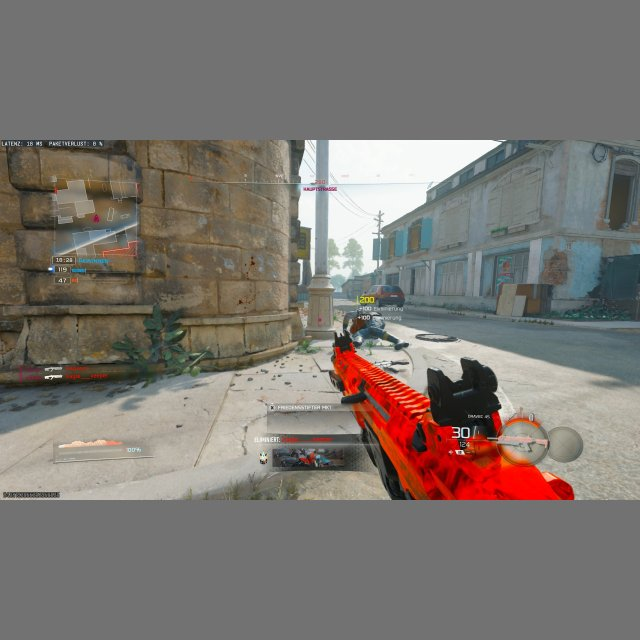player: (346, 308, 410, 351)
